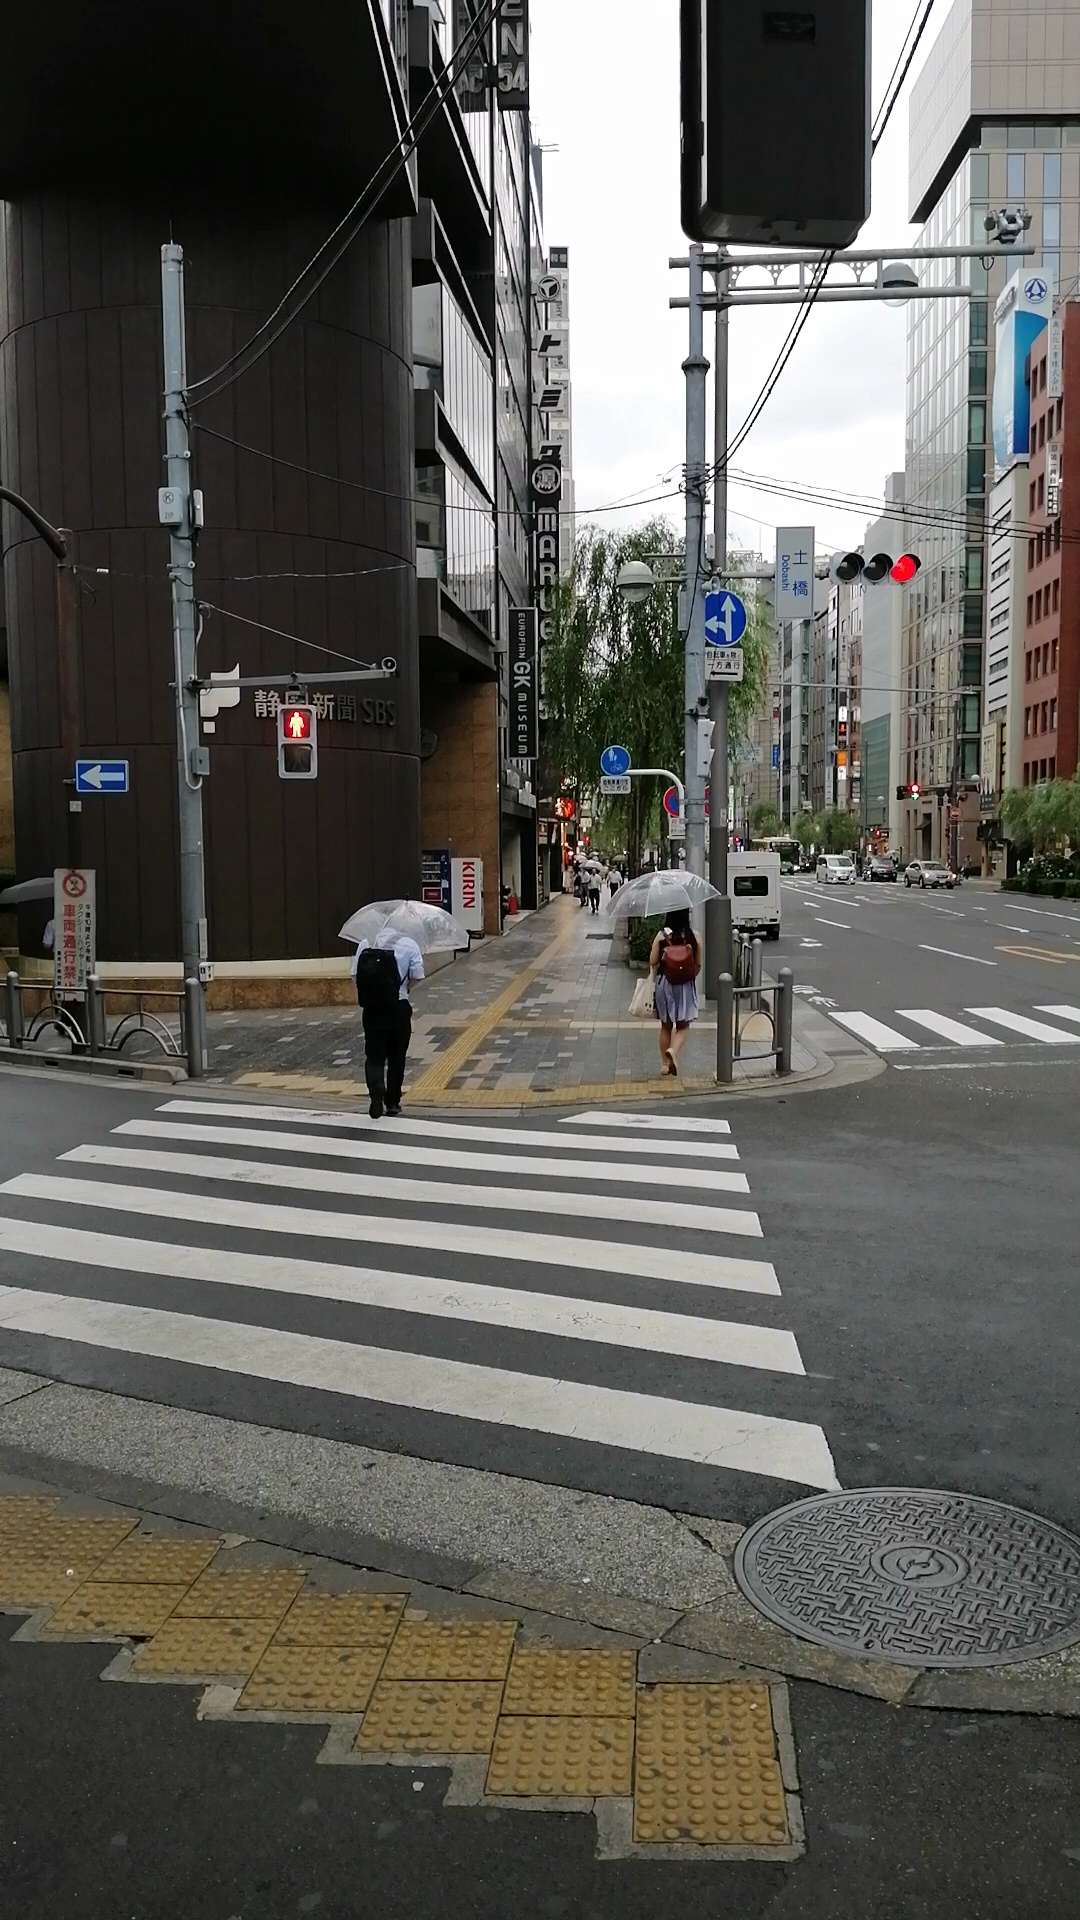red: (273, 703, 320, 781)
